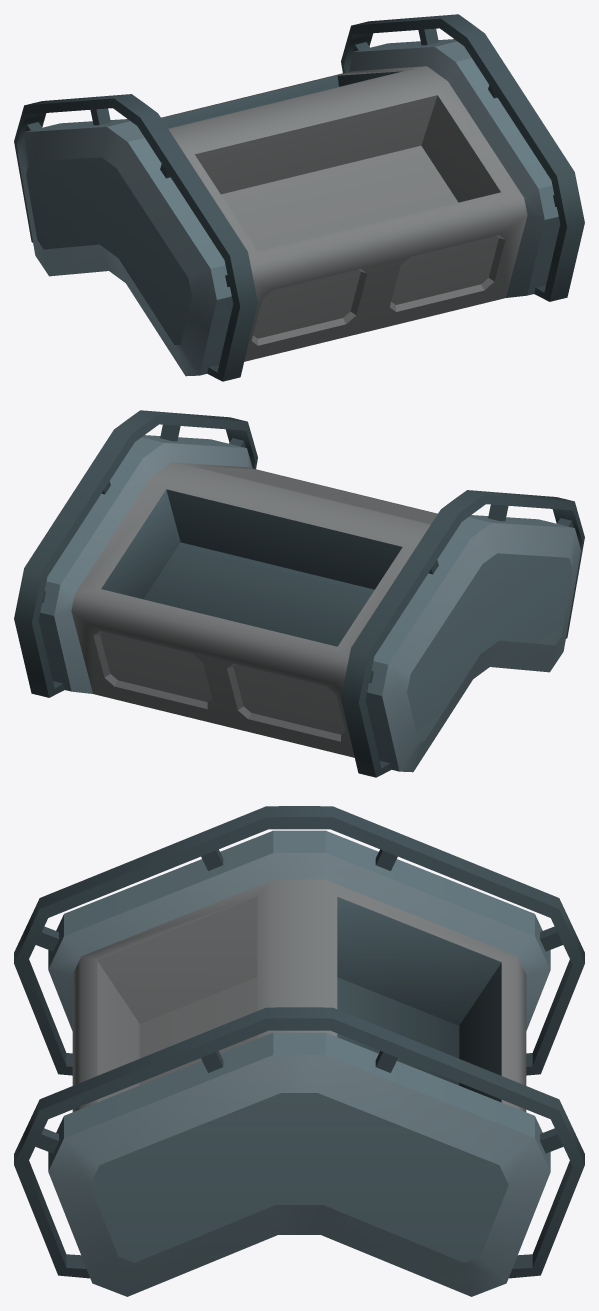
File: Garbage_Container_01.fbx
3 views of the same model, one above another, from view 1: azimuth 30°, elevation 25°; view 2: azimuth 150°, elevation 25°; view 3: azimuth 270°, elevation 25° (orthographic). The views are drawn at different scales.
Parts seen in each view (by area): view 1: Garbage_Container_01; view 2: Garbage_Container_01; view 3: Garbage_Container_01.
Part boxes in pixels (bbox=[...]): Garbage_Container_01: bbox=[14, 14, 584, 381]; Garbage_Container_01: bbox=[14, 410, 584, 777]; Garbage_Container_01: bbox=[14, 806, 584, 1296].
Bounding box in the file's own units: 189 × 195 × 103.
